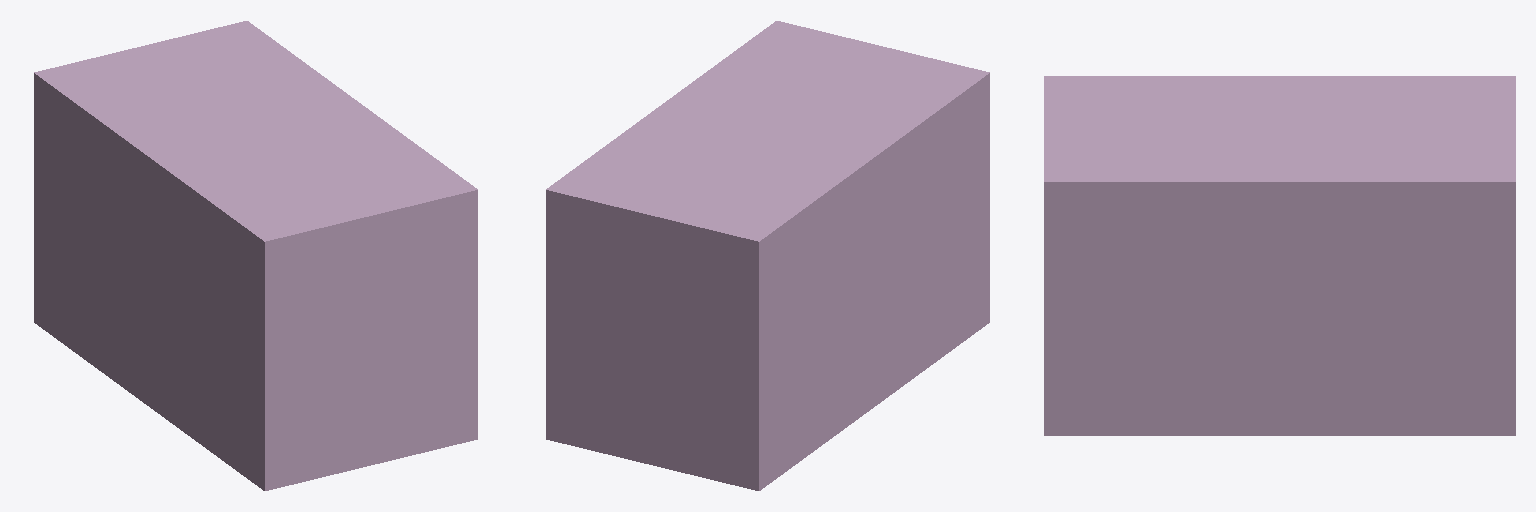
The robot description file, URDF, robot "box.urdf":
<?xml version="1.0" ?>
<robot name="box.urdf">
  <link name="baseLink">
    <contact>
      <lateral_friction value="1.0"/>
      <rolling_friction value="0.0001"/>
      <inertia_scaling value="3.0"/>
    </contact>
    <inertial>
      <origin rpy="0 0 0" xyz="0 0 0"/>
       <mass value="0.1"/>
       <inertia ixx="1" ixy="0" ixz="0" iyy="1" iyz="0" izz="1"/>
    </inertial>
    <visual>
      <origin rpy="0 0 0" xyz="0 0 0"/>
      <geometry>
        <!-- <box size="0.20600000000000002 0.386 0.23"/> -->
        <mesh filename="box/box.obj" scale="0.20600000000000002 0.386 0.23"/>
      </geometry>
      <material name="white">
        <color rgba="0.8 0.7 0.8 1"/>
      </material>
    </visual>
    <collision>
      <origin rpy="0 0 0" xyz="0 0 0"/>
      <geometry>
        <mesh filename="box/box.obj" scale="0.20600000000000002 0.386 0.23"/>
	 	    <!-- <box size="0.20600000000000002 0.386 0.23"/> -->
      </geometry>
    </collision>
  </link>
</robot>

--- What the picture shows (computed from the rendered views, not written in the file) ---
3 views of the same robot in one strip: view 1: azimuth 30°, elevation 25°; view 2: azimuth 150°, elevation 25°; view 3: azimuth 270°, elevation 25° (orthographic).
Model box.urdf with 1 links and 0 joints (none), rooted at baseLink, posed all joints at 0.
Visible links, largest first — view 1: baseLink; view 2: baseLink; view 3: baseLink.
Link boxes in pixels (x1=…): baseLink: x1=34, y1=21, x2=477, y2=490; baseLink: x1=546, y1=21, x2=989, y2=490; baseLink: x1=1044, y1=76, x2=1515, y2=435.
Bounding box of the posed robot: 0.206 × 0.386 × 0.23 m (x, y, z).
Meshes: 1 distinct files referenced, 1 mesh visuals loaded (1 OBJ).
